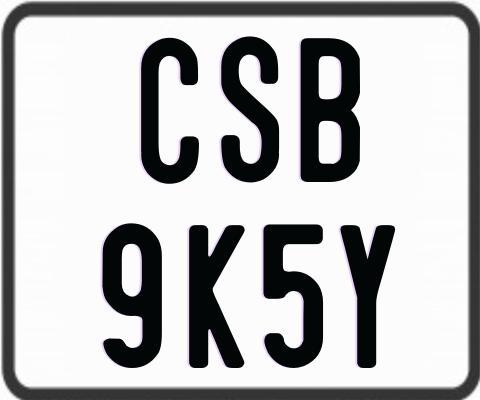5: (261, 222, 323, 369)
9: (99, 222, 162, 368)
B: (301, 38, 363, 186)
C: (141, 35, 202, 181)
K: (186, 224, 244, 367)
S: (219, 35, 281, 182)
Y: (338, 225, 397, 368)
